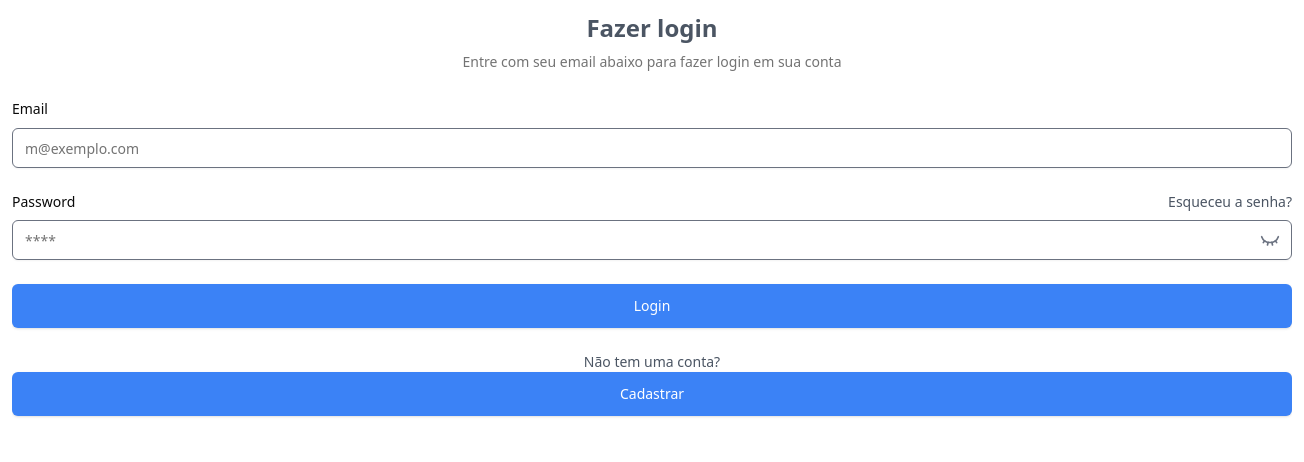
<LoginForm /> › should show error message when login throws an error (catch)
The image size is (1304, 462).
Type "user@test.com" into the field with placeholder "m@exemplo.com" at (652, 148), box x1=12 y1=128 x2=1292 y2=168
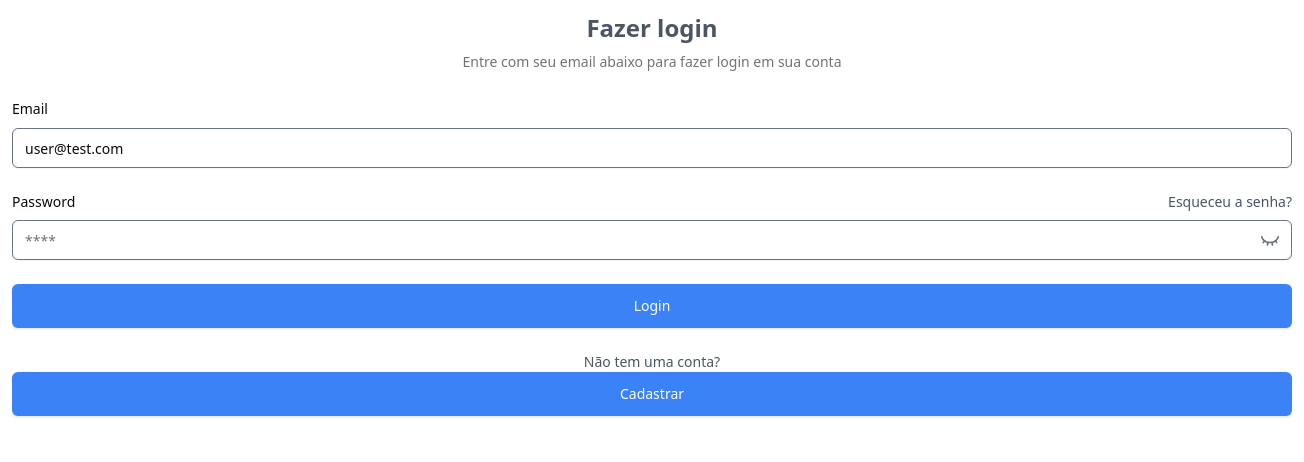
Type "123456" into the password field with placeholder "****" at (652, 240), box x1=12 y1=220 x2=1292 y2=260
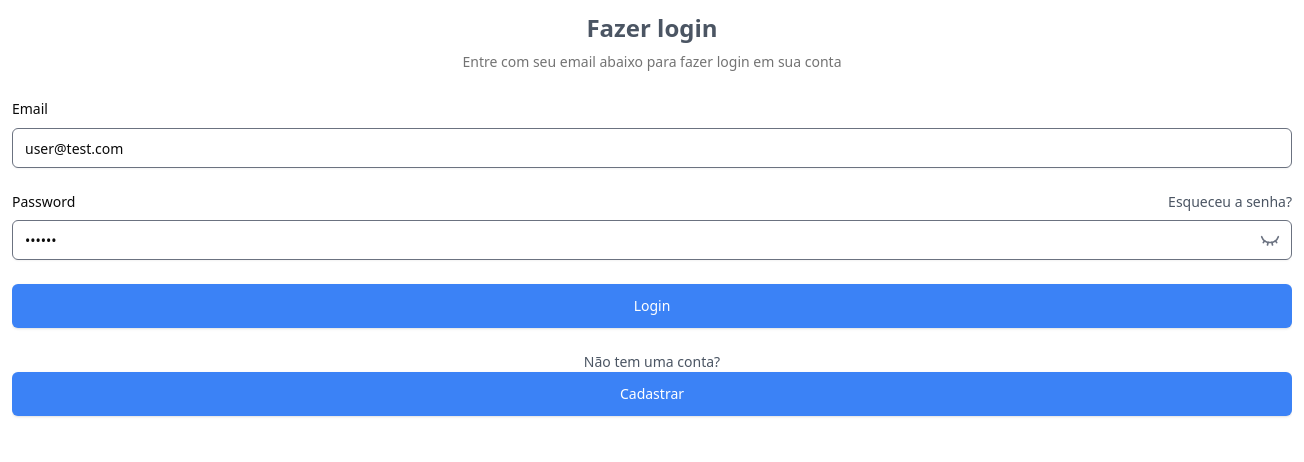
Click the button "Login" at (652, 306), box x1=12 y1=284 x2=1292 y2=328
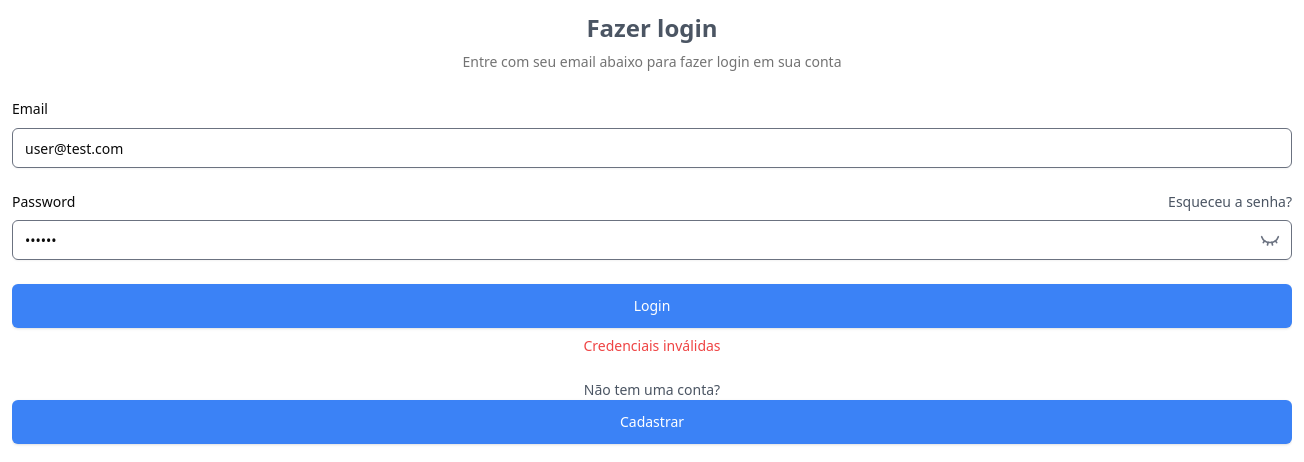
Result: the text "Credenciais inválidas" is shown at x1=583 y1=336 x2=721 y2=356
